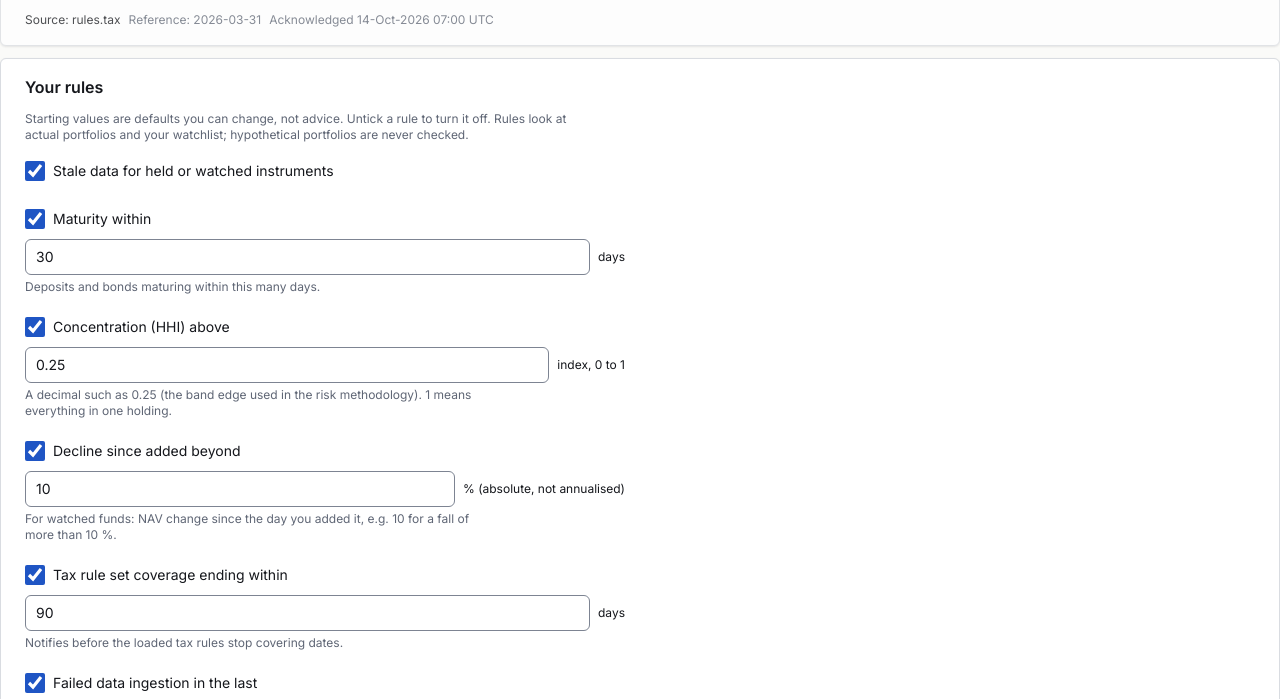
Test: Alerts › saves rules with thresholds as decimal strings and null for disabled rules
The width and height of the screenshot is (1280, 699).
(page scrolled)
Check: the field named "Decline since added beyond — threshold" next to "% (absolute, not annualised)" holds "10", box [25,471,455,507]
Replace the text in the field named "Concentration (HHI) above — threshold" next to "index, 0 to 1" with "0.3". click: (287, 365)
box: [25,347,549,383]
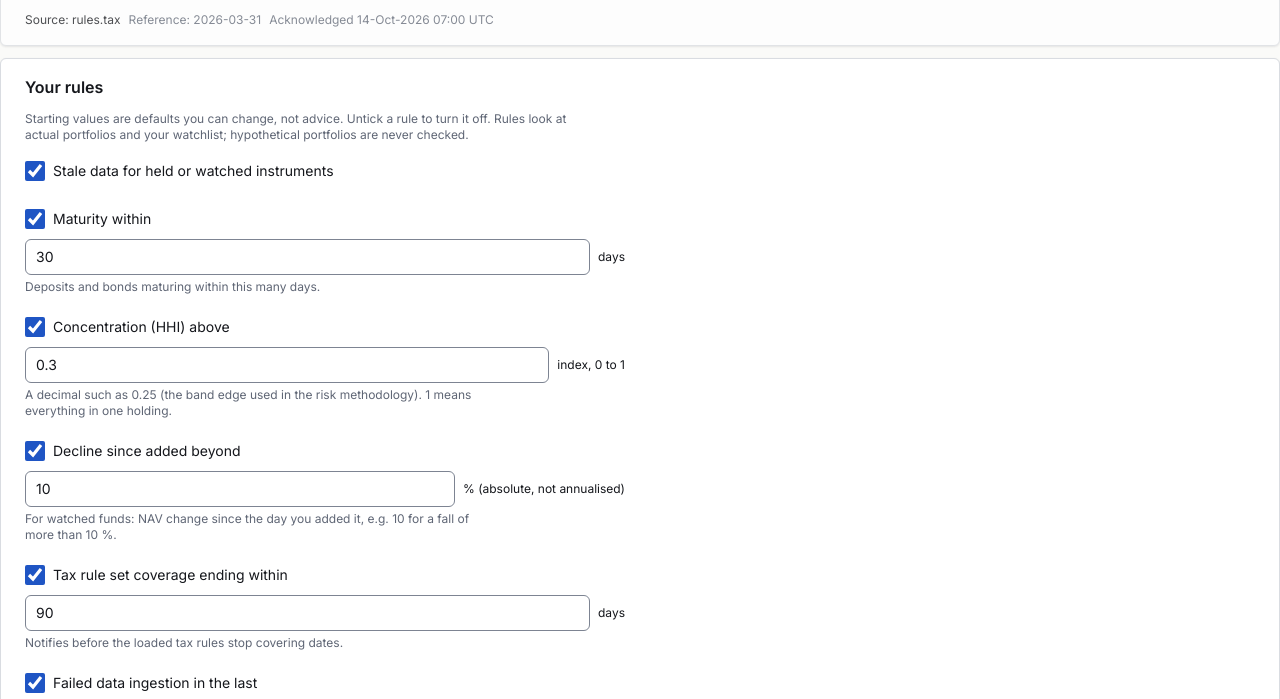
Replace the text in the field named "Decline since added beyond — threshold" next to "% (absolute, not annualised)" with "12.5". click: (240, 489)
box: [25,471,455,507]
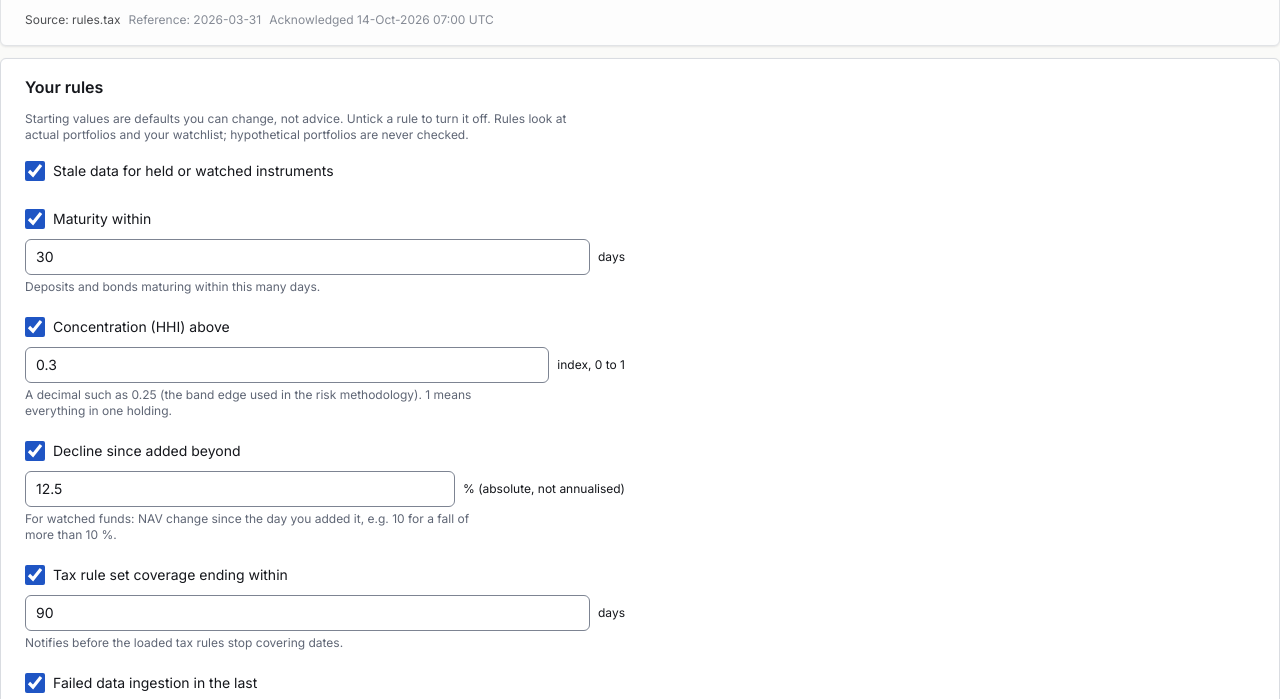
Click the checkbox labelled "Failed data ingestion in the last". click: (35, 683)
box: [25,673,45,693]
(page scrolled)
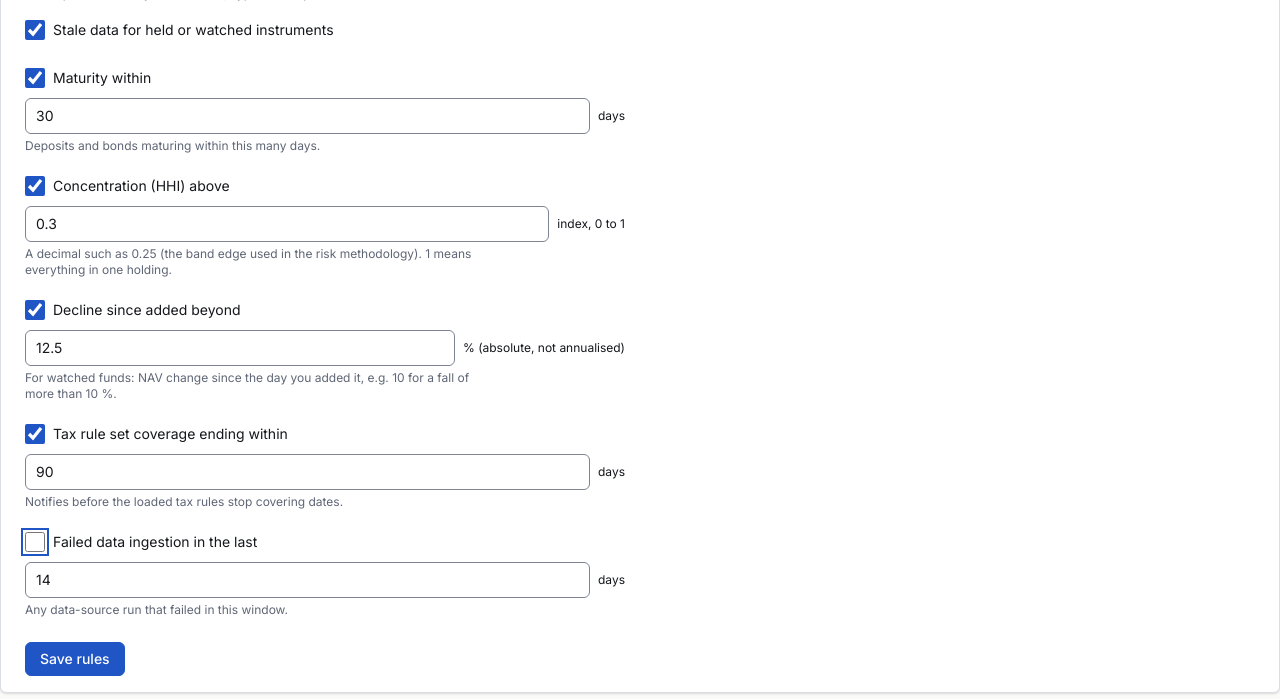
Click the button "Save rules". click: (75, 659)
box: [25,642,125,676]
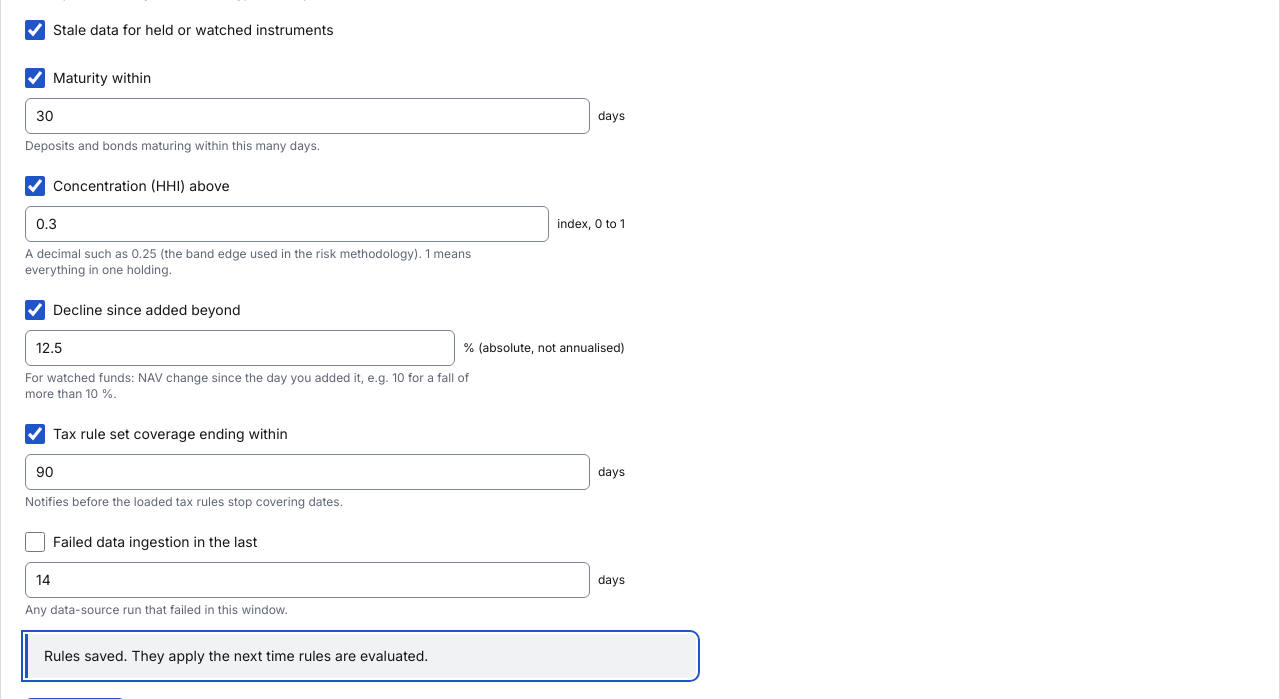
Check: the text "Rules saved. They apply the next time rules are evaluated." is shown, box [25,634,696,678]
